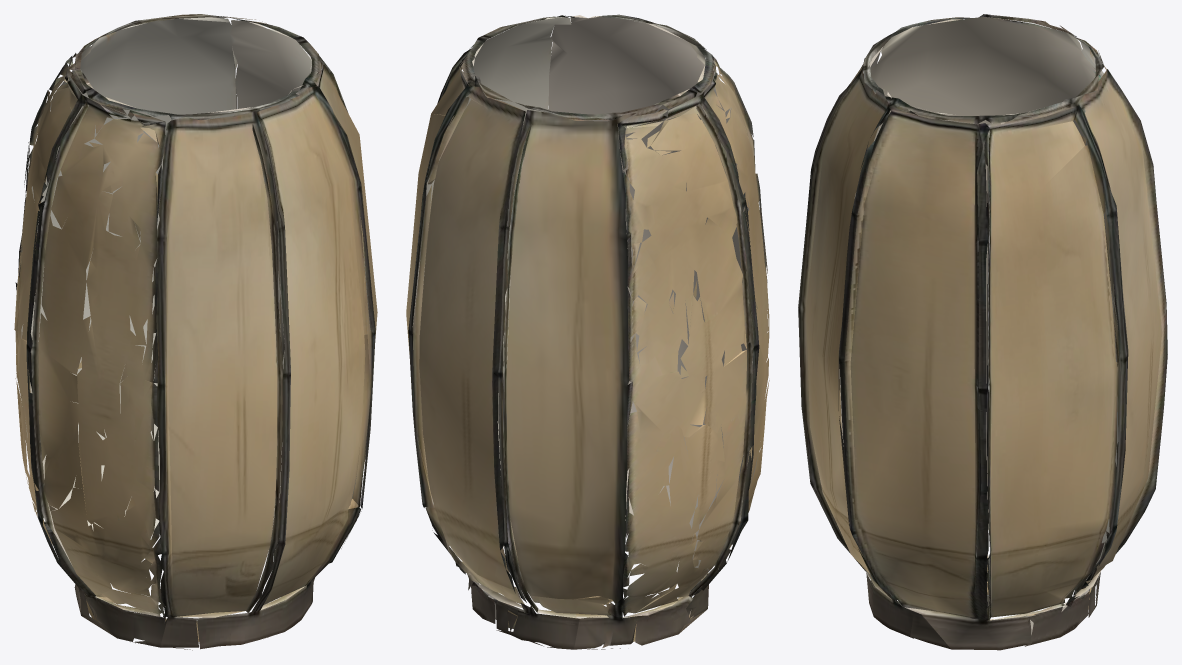
File: skyLantern.glb
The picture shows the model from 3 angles, left to right: view 1: azimuth 30°, elevation 25°; view 2: azimuth 150°, elevation 25°; view 3: azimuth 270°, elevation 25°; orthographic projection.
Parts seen in each view (by area): view 1: Prop_skyLantern; view 2: Prop_skyLantern; view 3: Prop_skyLantern.
Boxes of the visible parts, x1,y1,x2,y2 form: Prop_skyLantern: (14, 14, 377, 650); Prop_skyLantern: (406, 14, 769, 649); Prop_skyLantern: (798, 14, 1167, 650).
Bounding box in the file's own units: 0.5888 × 0.9004 × 0.5625.
1 material, 1 textured.
